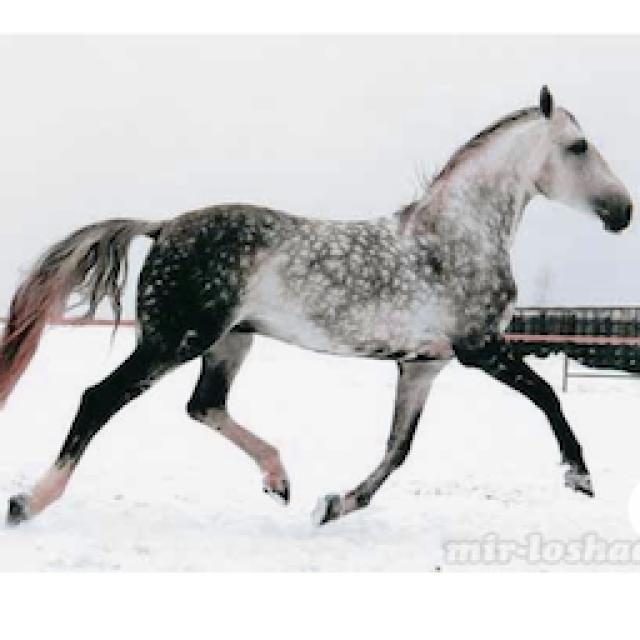Horse: (0, 80, 638, 532)
